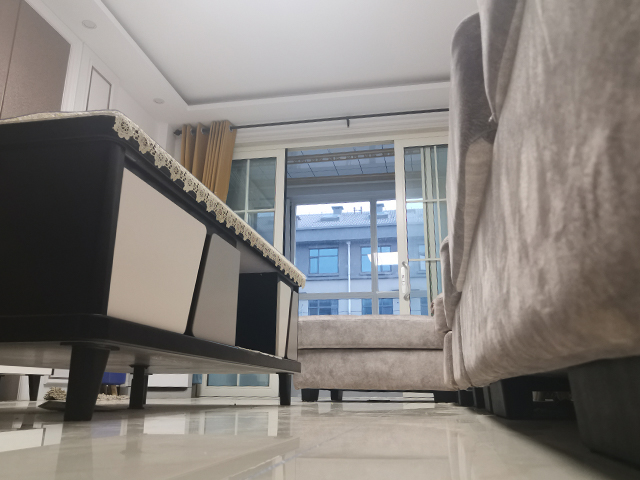carpet: (41, 387, 130, 403)
sofa: (296, 1, 640, 474)
stool: (98, 369, 129, 398)
table: (1, 106, 306, 424)
